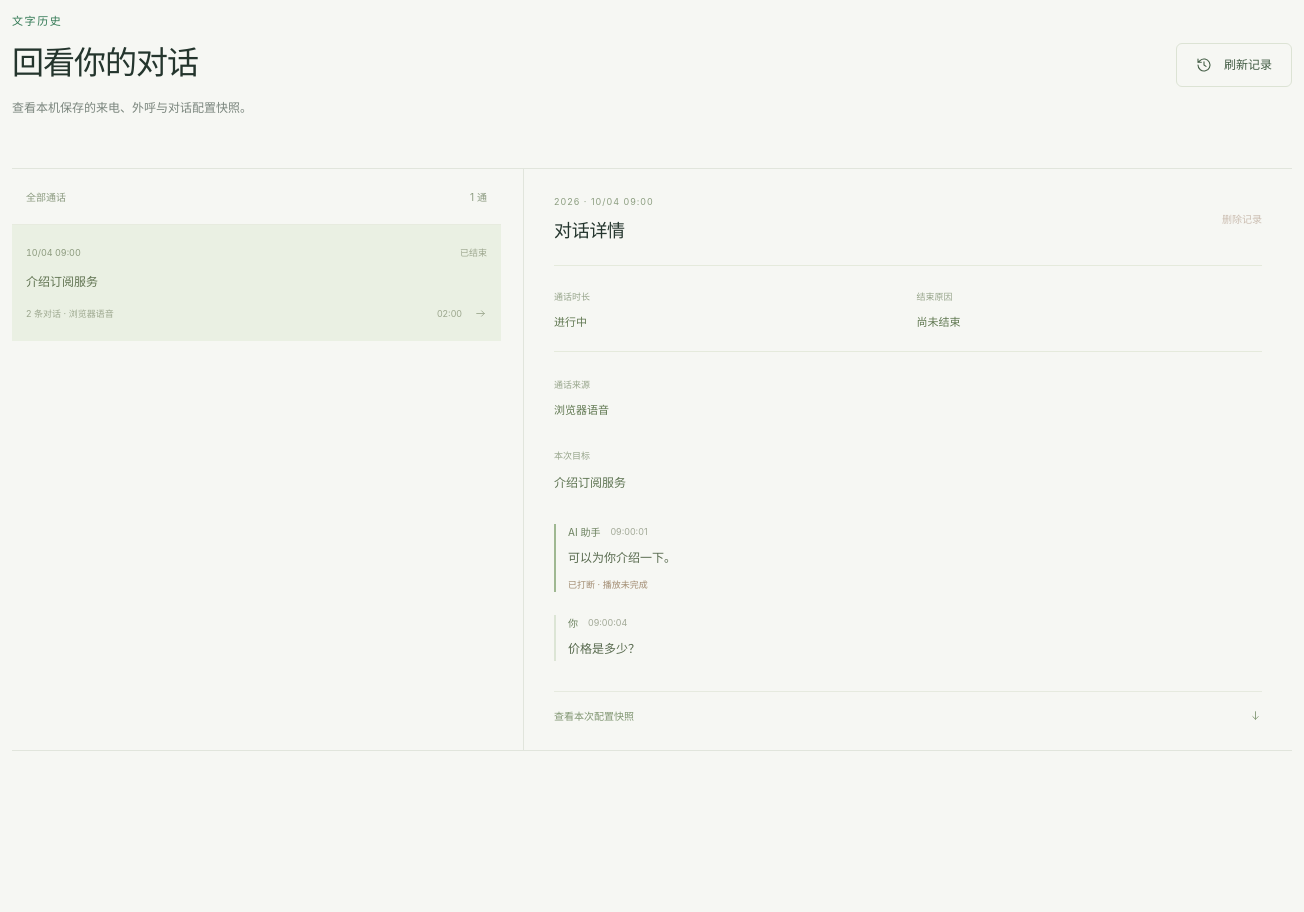
Test case: 本机文字历史 › 活动记录禁止删除，刷新后使用新的服务端状态
The image size is (1304, 912).
Expected: the text "价格是多少？" is shown, [568,641,640,656]
Expected: the button "删除记录" is disabled, [1222,206,1262,231]
Step 1. Click the button "刷新记录" → (1234, 65), box [1176,43,1292,87]
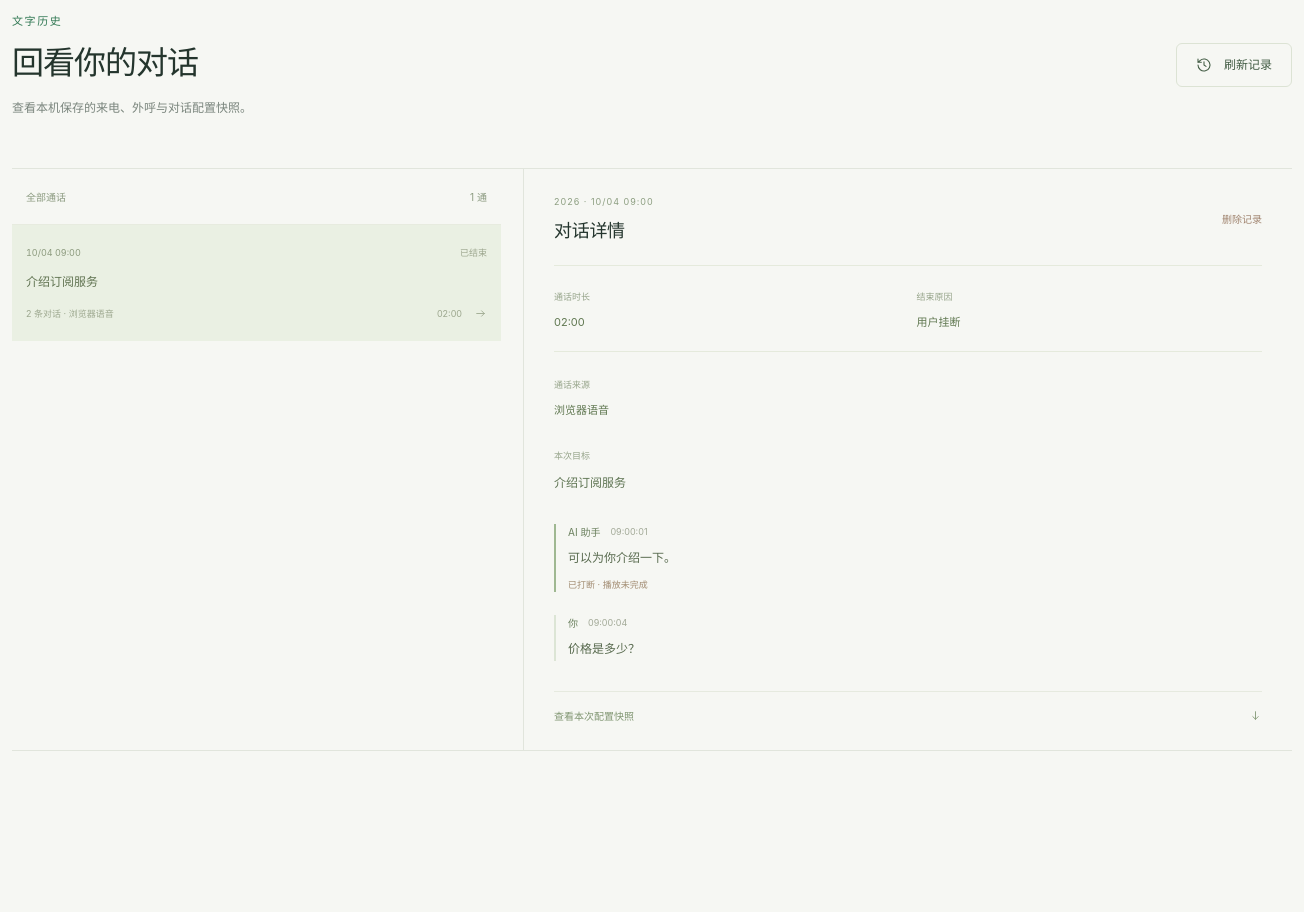
Result: the button "删除记录" is enabled at [1222,206,1262,231]
